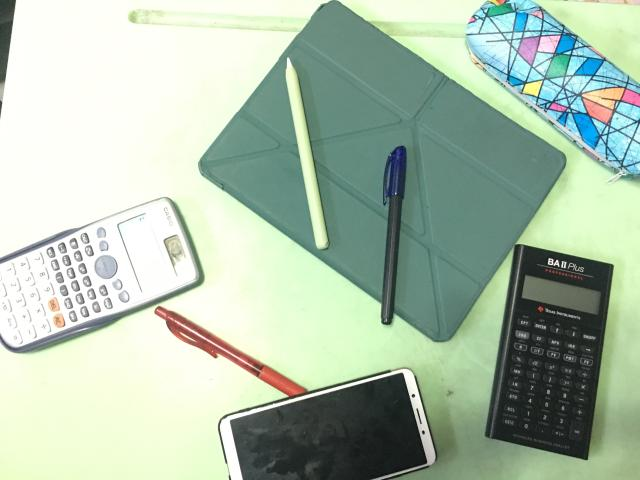Mobile phone: (216, 369, 438, 480)
Pen: (157, 309, 306, 398), (381, 145, 406, 325)
